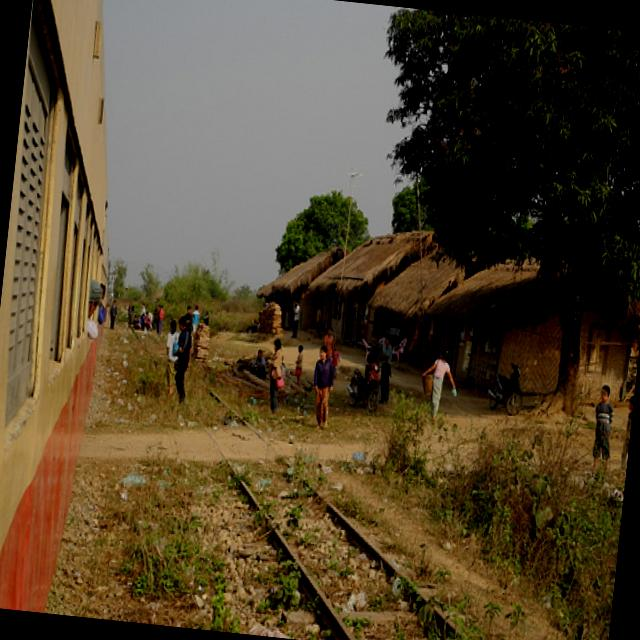Vehicle: (485, 360, 527, 418), (344, 358, 384, 413)
